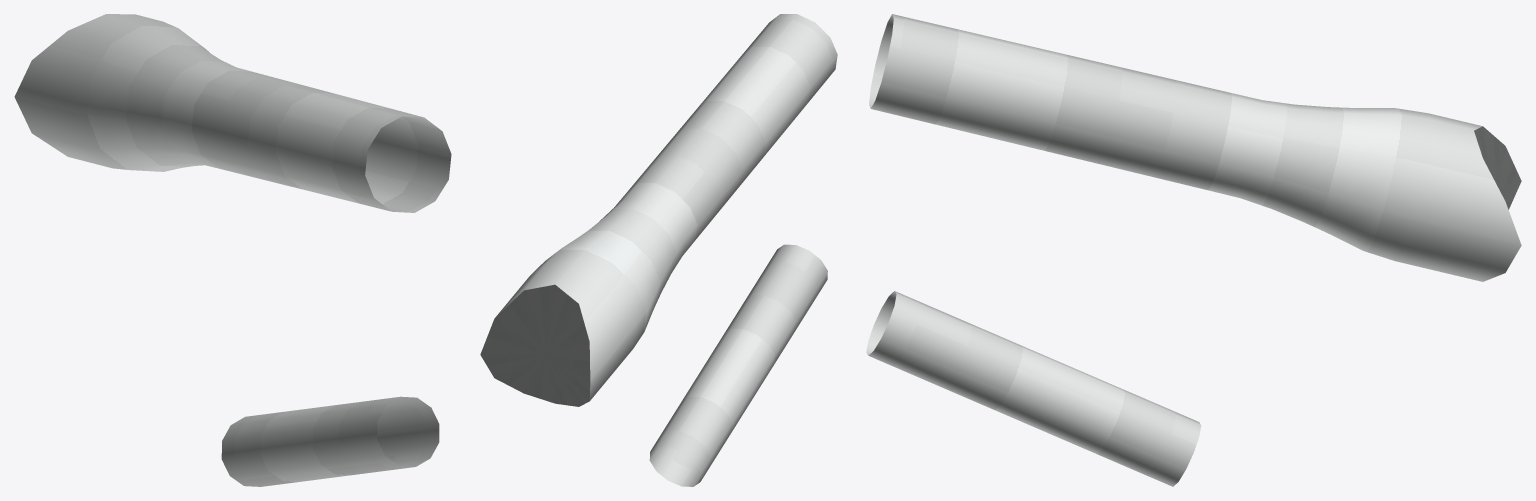
File: luminairearm_truss15ftstraightdouble_c10_pedestal.obj
3 renders of one model, left to right at view 1: azimuth 30°, elevation 25°; view 2: azimuth 150°, elevation 25°; view 3: azimuth 270°, elevation 25°, orthographic. The views are drawn at different scales.
Visible parts, largest first — view 1: luminairearm_truss15ftstraightdouble_c10_pedestal; view 2: luminairearm_truss15ftstraightdouble_c10_pedestal; view 3: luminairearm_truss15ftstraightdouble_c10_pedestal.
Boxes of the visible parts, x1,y1,x2,y2 form: luminairearm_truss15ftstraightdouble_c10_pedestal: (14, 14, 451, 486); luminairearm_truss15ftstraightdouble_c10_pedestal: (480, 14, 837, 486); luminairearm_truss15ftstraightdouble_c10_pedestal: (866, 14, 1521, 486).
Size of the model in its own units: 0.3375 by 1.14 by 1.45.
